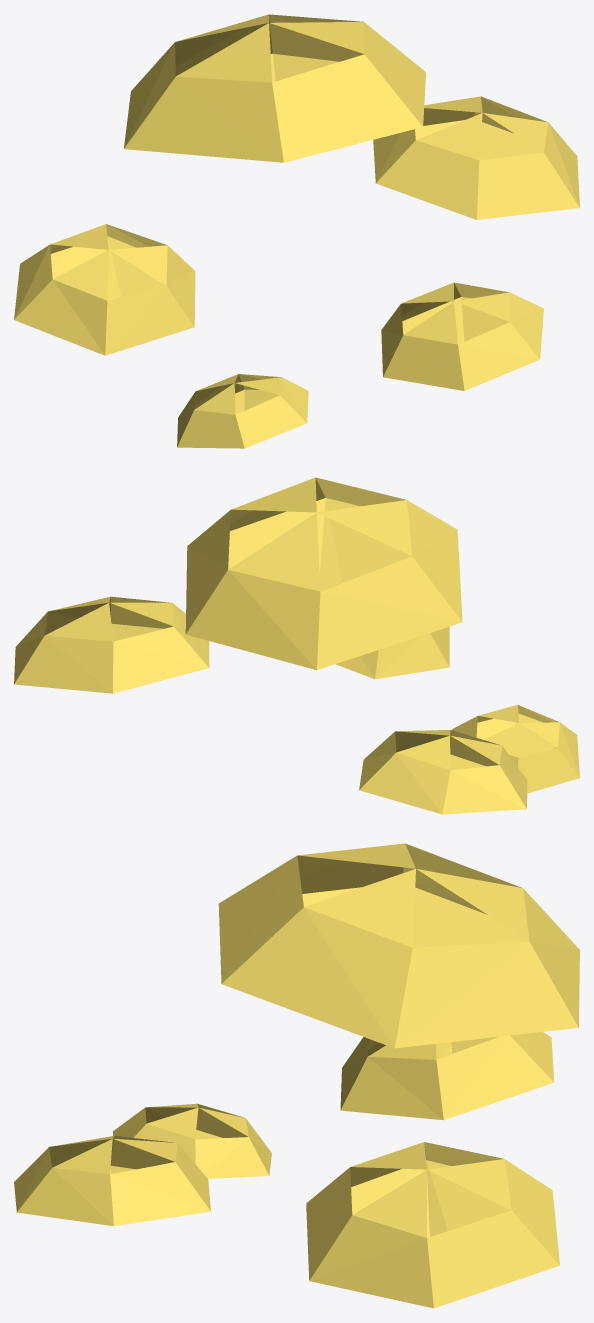
The model's file is plant_glow_shroom_yellow_glow.fbx.
3 views of the same model, one above another, from view 1: azimuth 30°, elevation 25°; view 2: azimuth 150°, elevation 25°; view 3: azimuth 270°, elevation 25° (orthographic). The views are drawn at different scales.
Visible parts, largest first — view 1: plant_glow_shroom_yellow_glow; view 2: plant_glow_shroom_yellow_glow; view 3: plant_glow_shroom_yellow_glow.
Boxes of the visible parts, x1,y1,x2,y2 form: plant_glow_shroom_yellow_glow: [14, 14, 579, 448]; plant_glow_shroom_yellow_glow: [14, 477, 579, 814]; plant_glow_shroom_yellow_glow: [14, 843, 579, 1308].
Size of the model in its own units: 596 by 324 by 442.
1 material, 1 textured.
